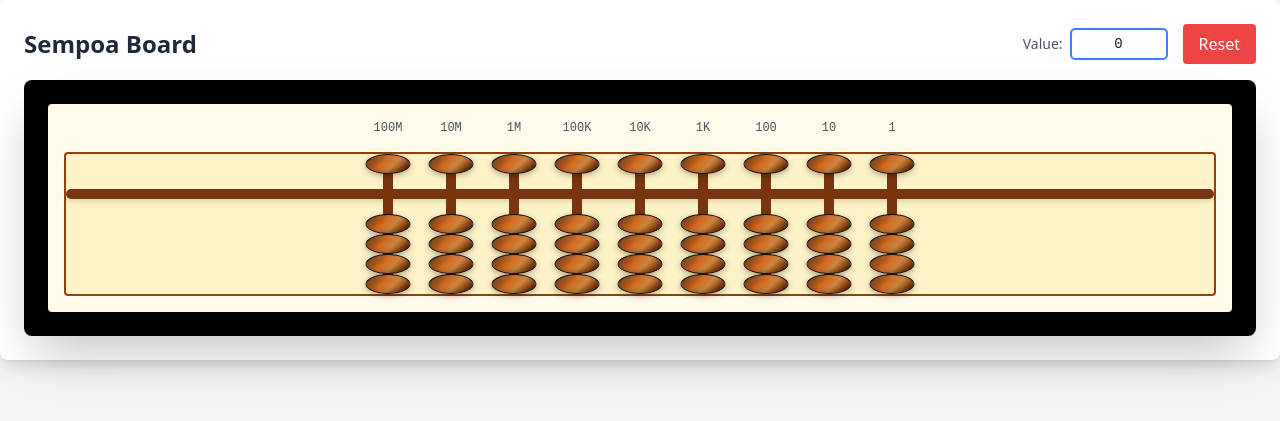
SempoaBoard Keyboard Input › Input Validation › should show error for negative numbers via paste
Clear the field with test id "keyboard-input-field": (1118, 44) [1070, 29, 1166, 59]
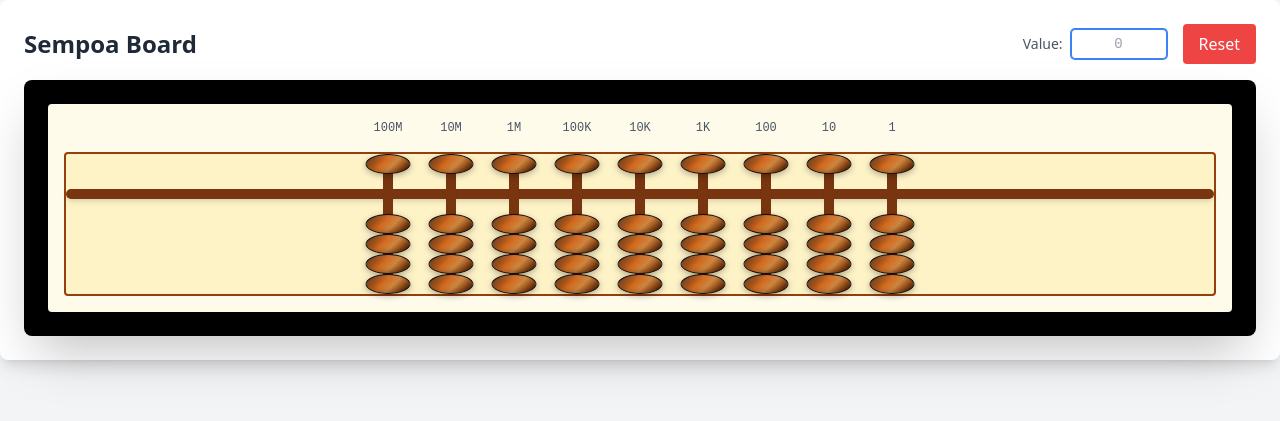
Type keys "-5"
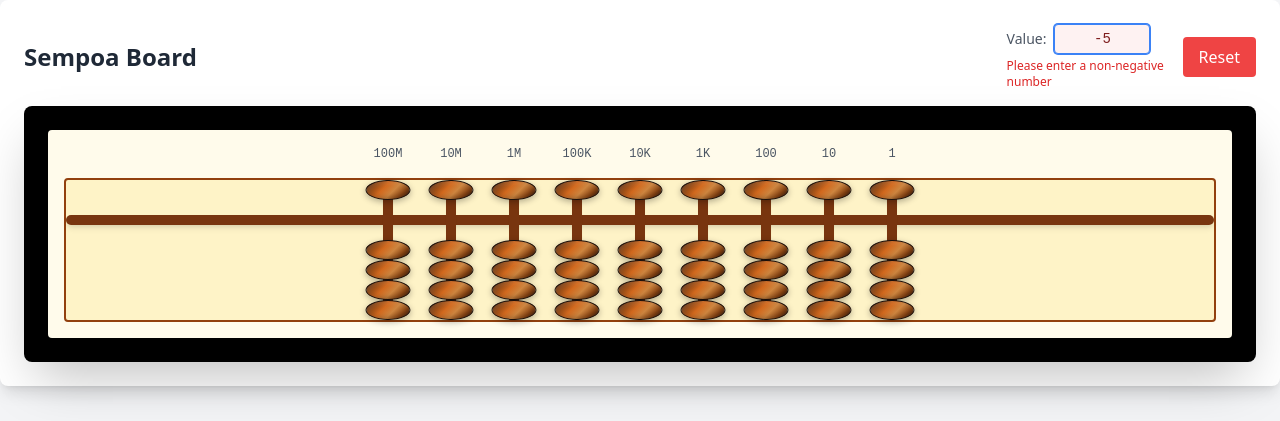
Expected: the text with test id "keyboard-input-error" reads "Please enter a non-negative number", [1006, 57, 1164, 90]
